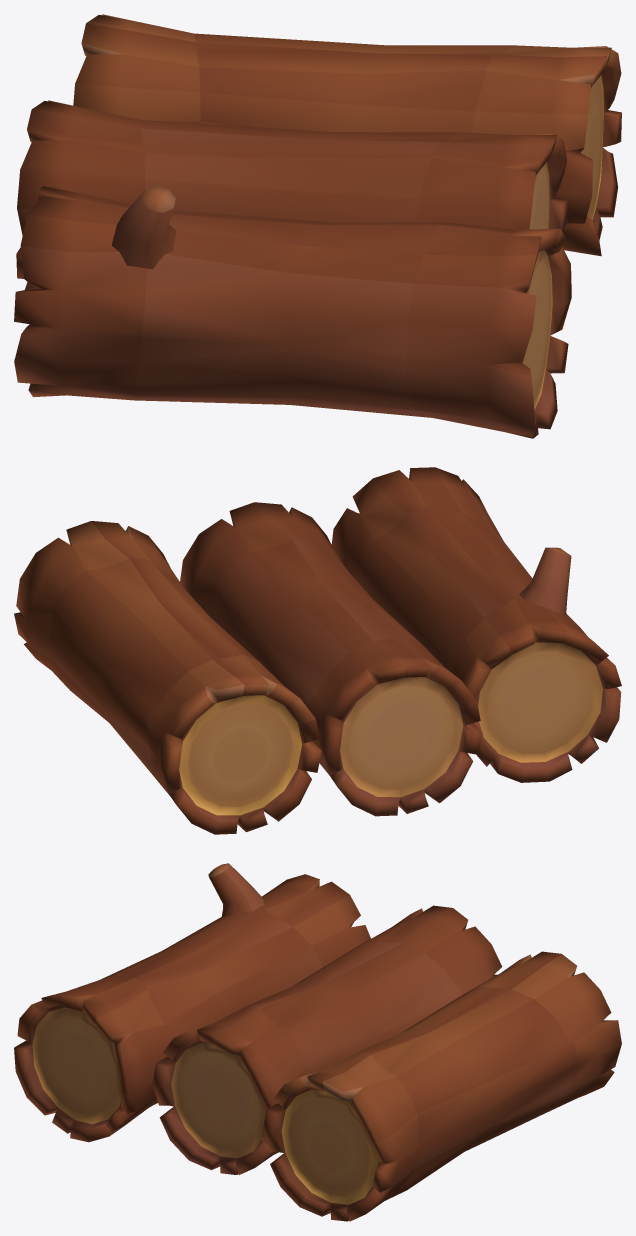
File: block_wood_1_1.fbx
The picture shows the model from 3 angles, top to bottom: view 1: azimuth 30°, elevation 25°; view 2: azimuth 150°, elevation 25°; view 3: azimuth 270°, elevation 25°; orthographic projection. The views are drawn at different scales.
Parts seen in each view (by area): view 1: block_wood_1_1; view 2: block_wood_1_1; view 3: block_wood_1_1.
Boxes of the visible parts, <box> form: block_wood_1_1: <box>14,14,621,438</box>; block_wood_1_1: <box>14,467,621,834</box>; block_wood_1_1: <box>14,863,621,1221</box>.
Bounding box in the file's own units: 177 × 57.62 × 185.
